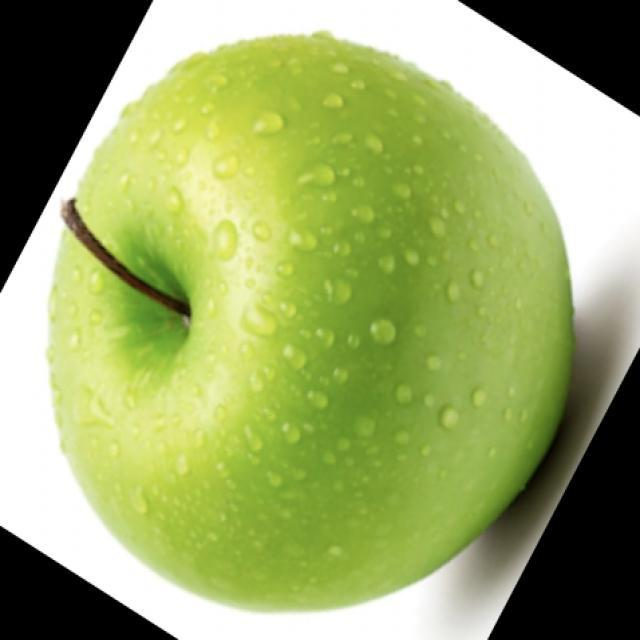Fresh Apple: (47, 31, 572, 619)
